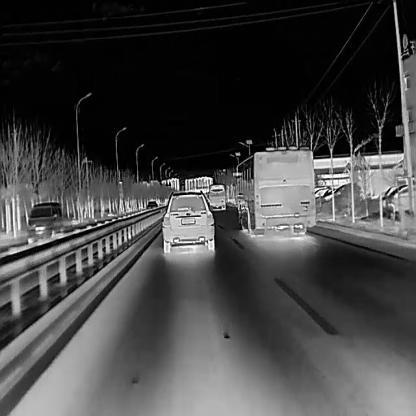car: (232, 144, 315, 236), (161, 189, 215, 253), (25, 201, 60, 245), (377, 182, 416, 214), (207, 182, 226, 210), (144, 199, 158, 216)
